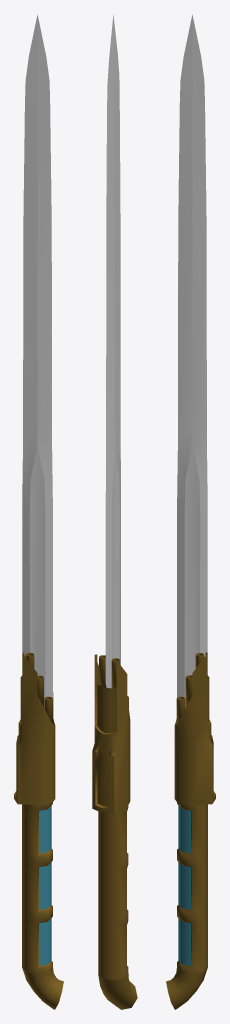
File: mdl_sword.fbx
3 views of the same model, side by side, from view 1: azimuth 90°, elevation 25°; view 2: azimuth 150°, elevation 25°; view 3: azimuth 270°, elevation 25° (orthographic).
Parts seen in each view (by area): view 1: mesh_sword; view 2: mesh_sword; view 3: mesh_sword.
Boxes of the visible parts, box(x1,y1,x2,y2) form: mesh_sword: box(14, 14, 63, 1009); mesh_sword: box(92, 15, 137, 1009); mesh_sword: box(166, 14, 215, 1009).
Bounding box in the file's own units: 0.0457 × 1.56 × 0.071.
